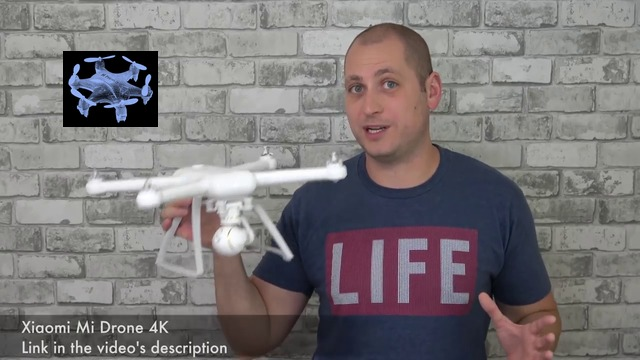drone: (86, 147, 347, 277), (63, 51, 158, 127)
